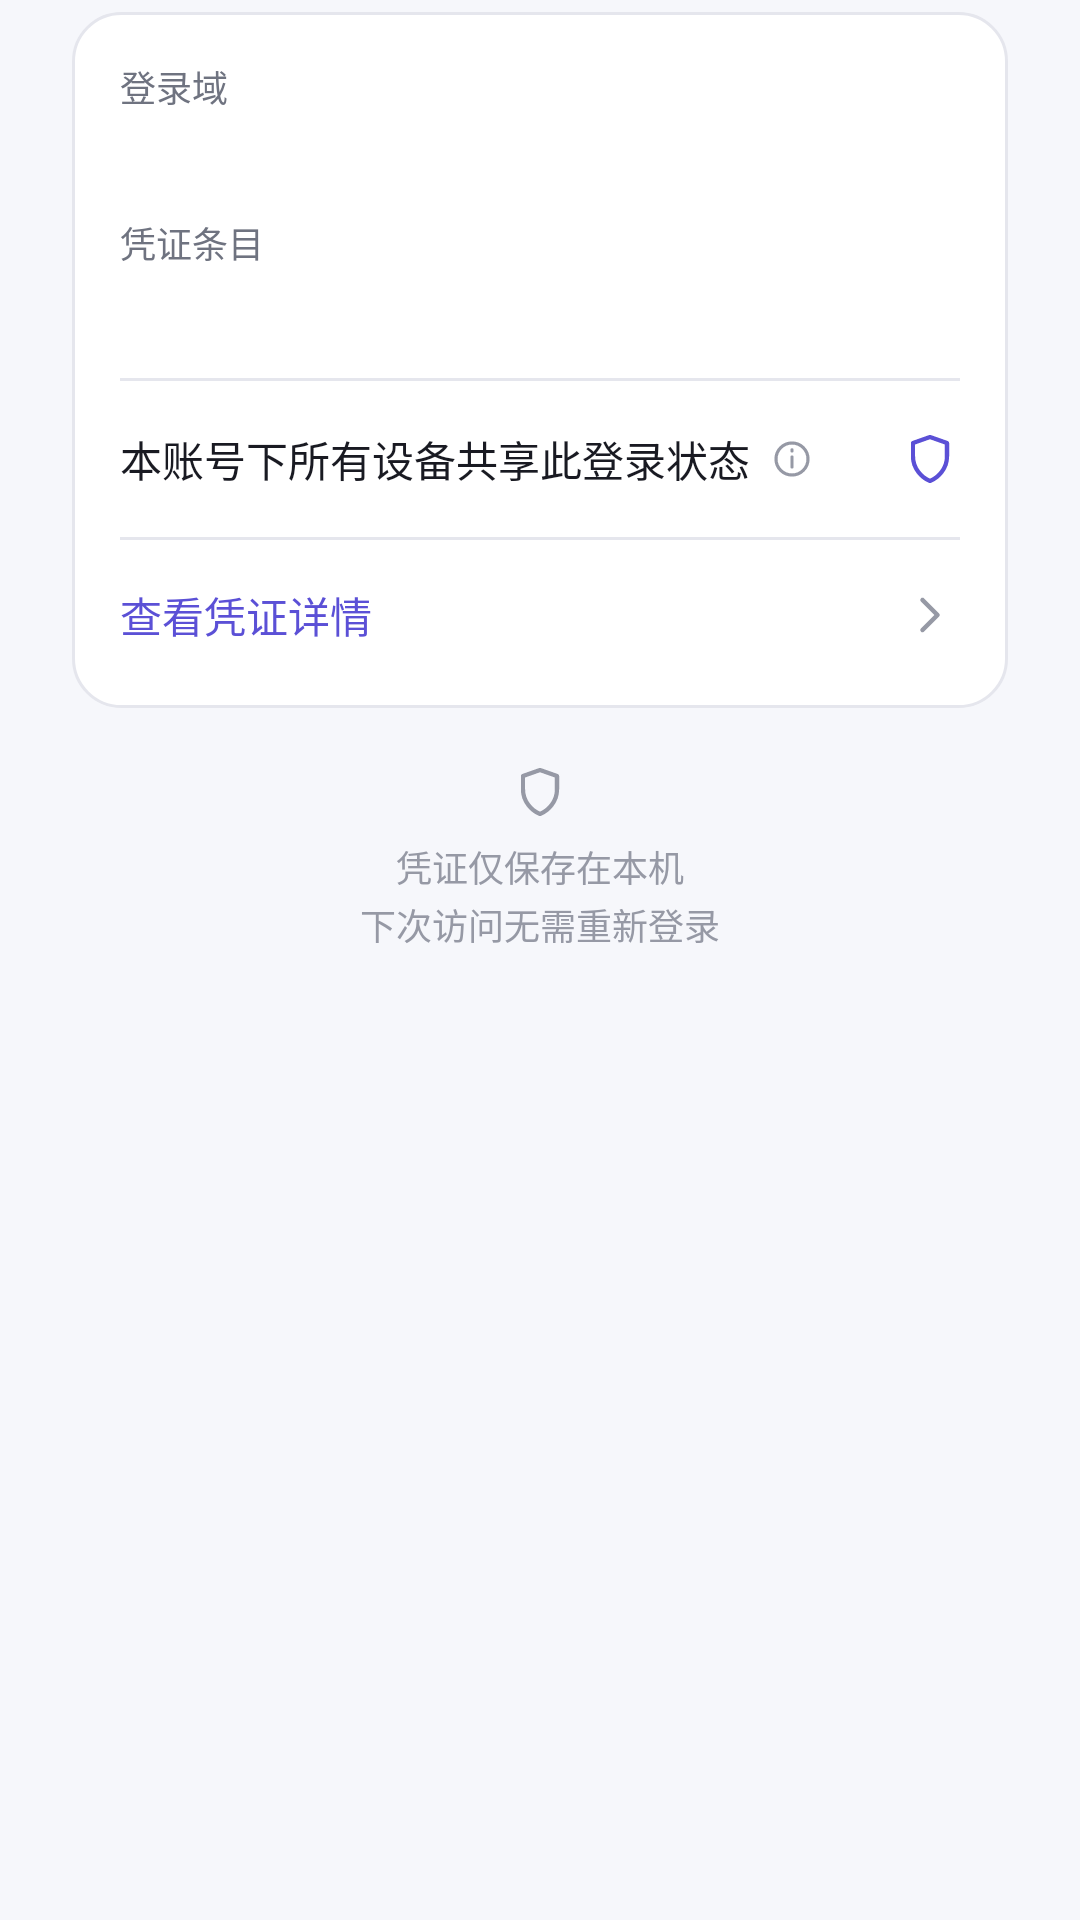

Named icons in this screenshot (1080 x 1920) and their centers, (x=x, y=y):
chevron right: (x=930, y=615)
info: (x=792, y=459)
shield: (x=930, y=459), (x=540, y=792)
